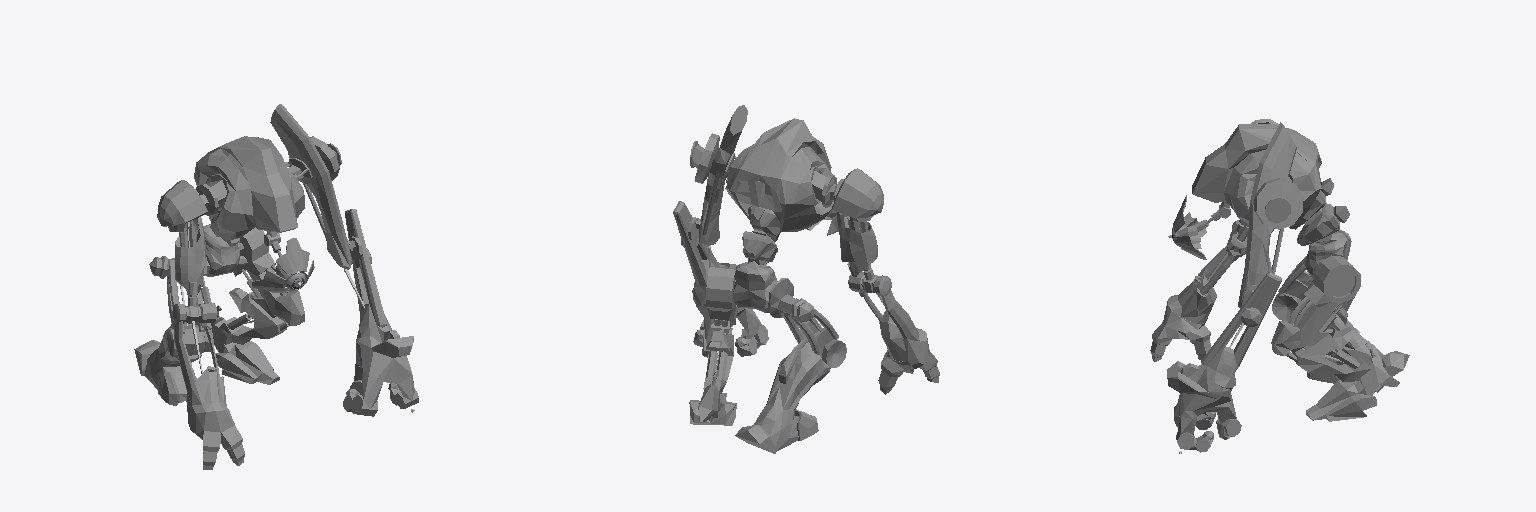
3 renders of one model, left to right at view 1: azimuth 30°, elevation 25°; view 2: azimuth 150°, elevation 25°; view 3: azimuth 270°, elevation 25°, orthographic.
Visible parts, largest first — view 1: (null); view 2: (null); view 3: (null).
Part boxes in pixels (x1,y1,x2,y2): (null): (134,104,418,469); (null): (673,105,939,453); (null): (1150,119,1409,453).
Size of the model in its own units: 90.34 by 112 by 90.21.
Materials: 2 (1 with a texture image).